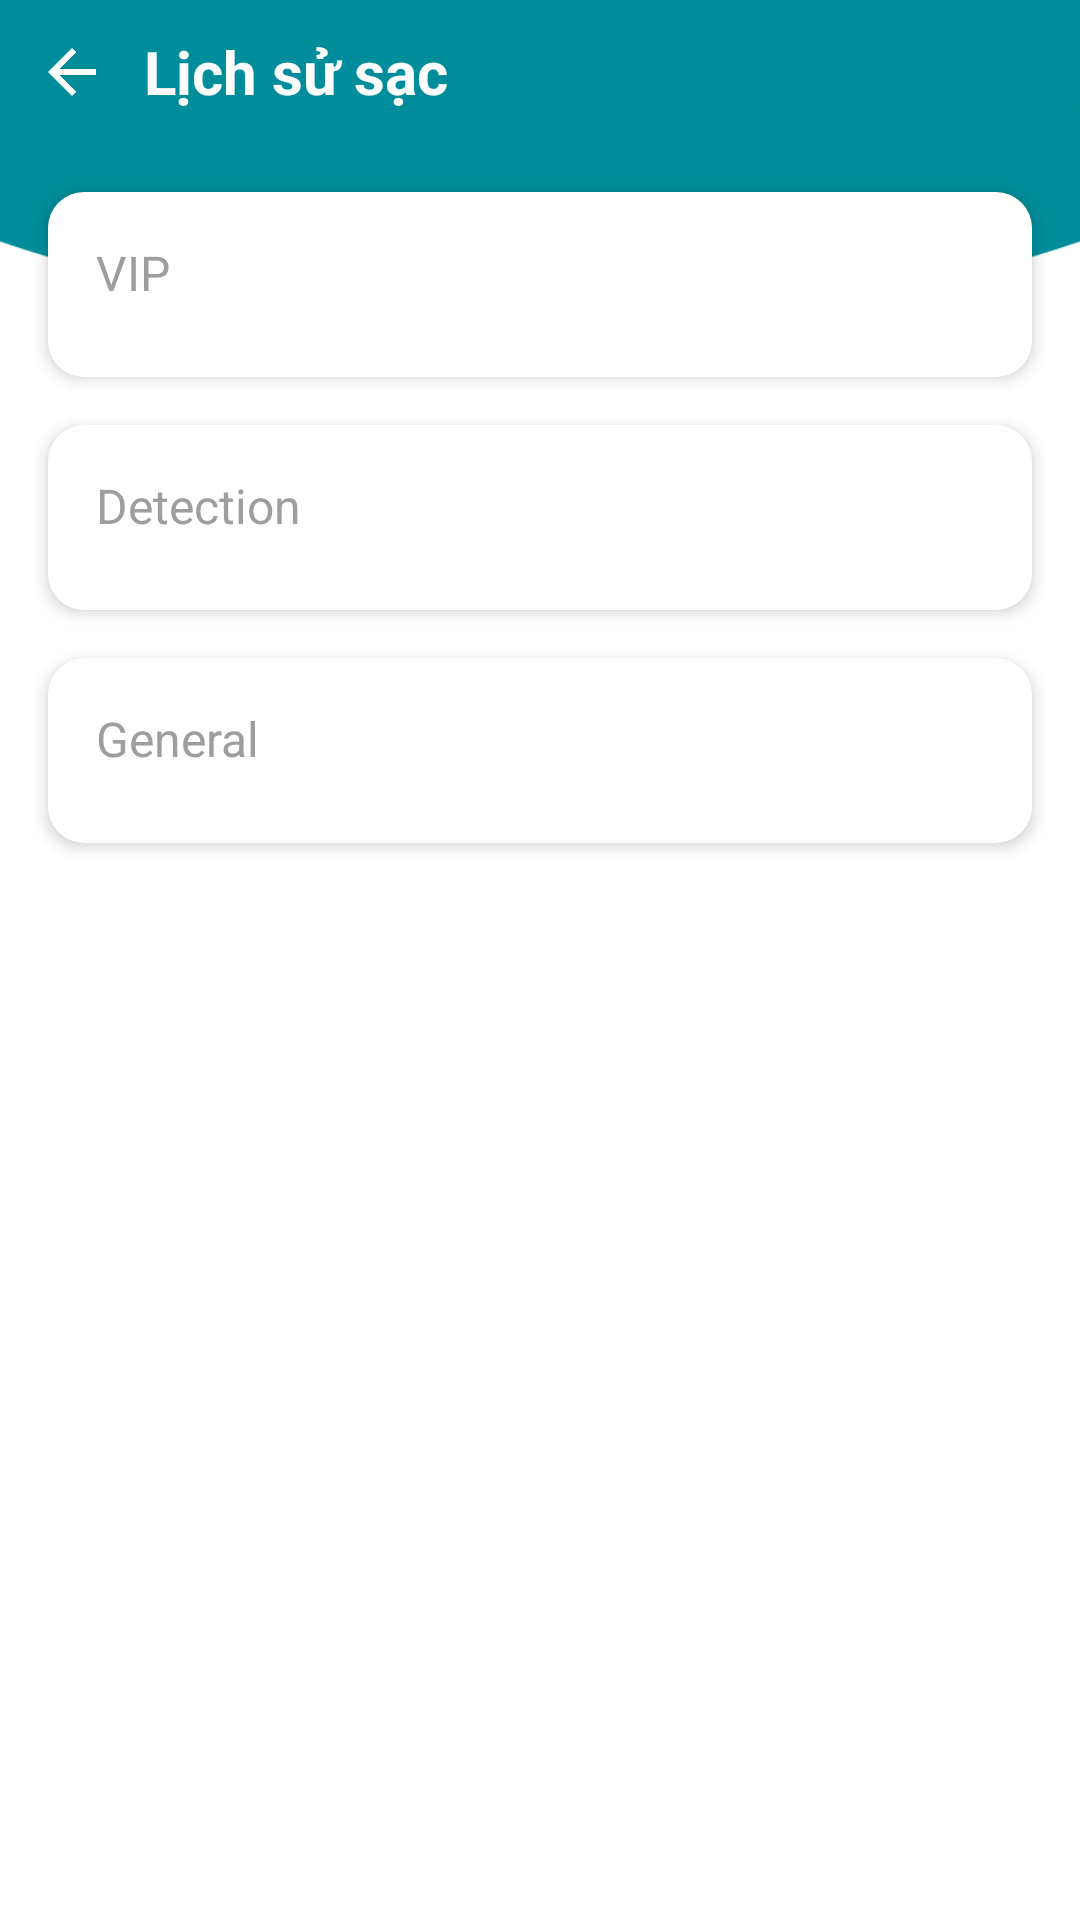

Named icons in this screenshot (1080px×1920px) and their bounding boxes, [x1,y1,x2,y2]:
Back: [48,48,96,96]
